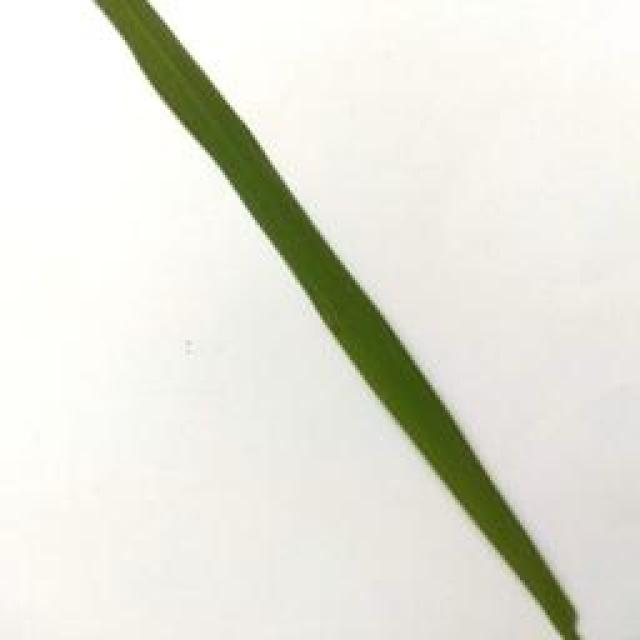Healthy-Plant: (94, 0, 578, 632)
